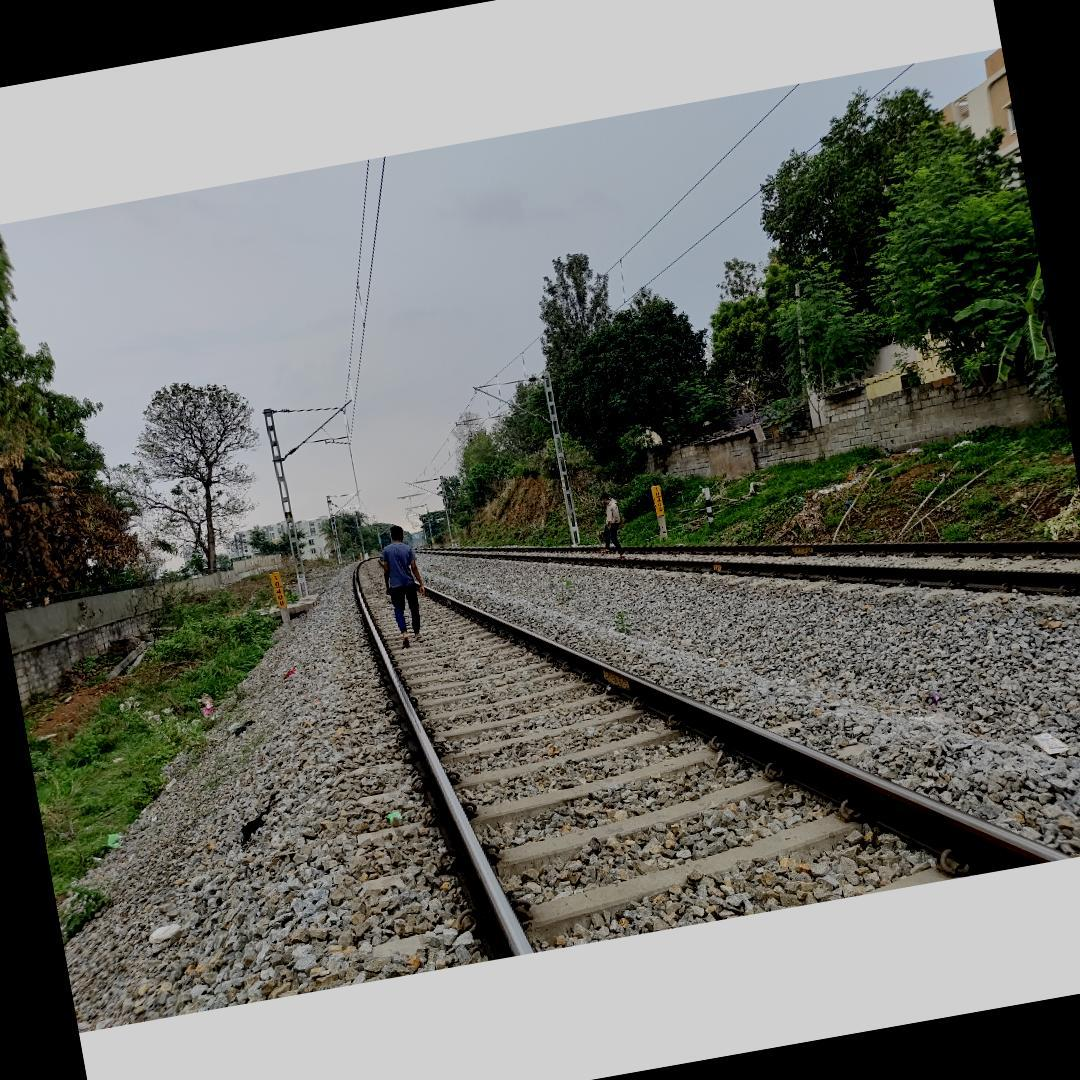standing: (371, 521, 434, 648), (592, 489, 628, 560)
track: (349, 546, 1080, 963), (413, 536, 1080, 613)
